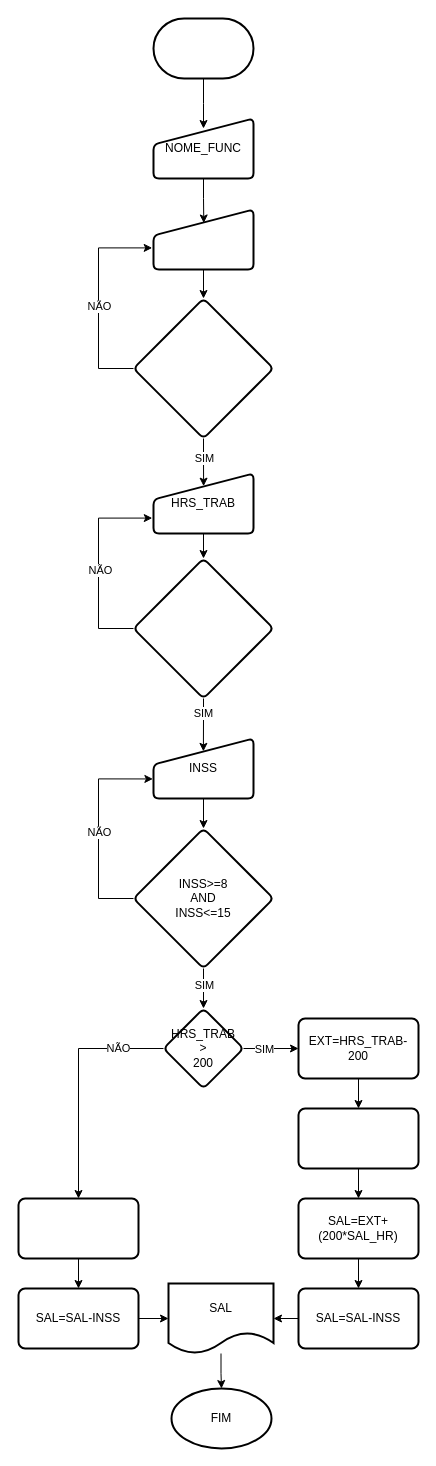
This 436x1466 diagram has some shape labels left out. The box of each missing label's shape, as (x1, y1, x2, y2) in pixels:
EXT= (EXT*SAL_HR)*1.5: (297, 1107, 419, 1169)
HRS_TRAB>=180 AND HRS_TRAB<=250: (132, 557, 274, 699)
INICIO: (152, 17, 254, 79)
SAL= HRS_TRAB*SAL_HR: (17, 1197, 139, 1259)
SAL_HR: (152, 208, 254, 270)
SAL_HR>=3.00 AND SAL_HR<=40.00: (132, 297, 274, 439)
